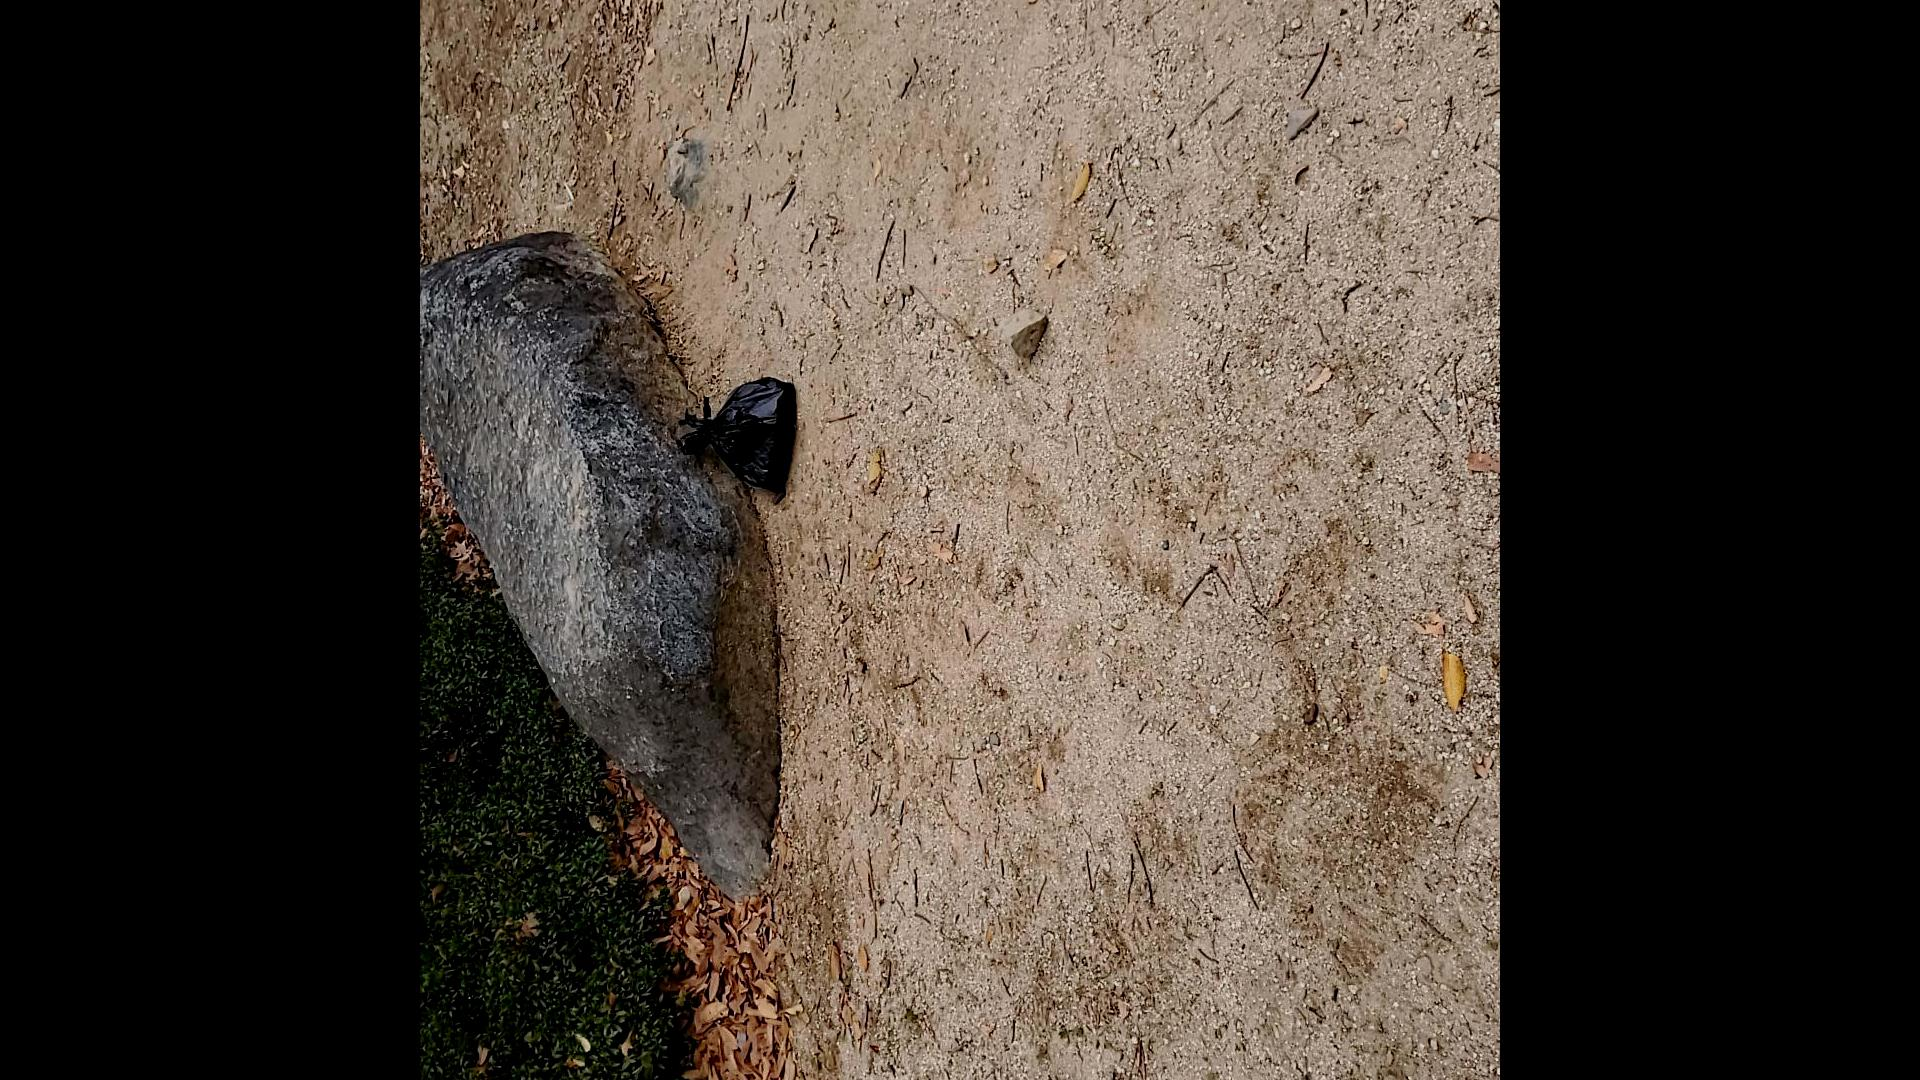black_bag: (674, 363, 803, 506)
